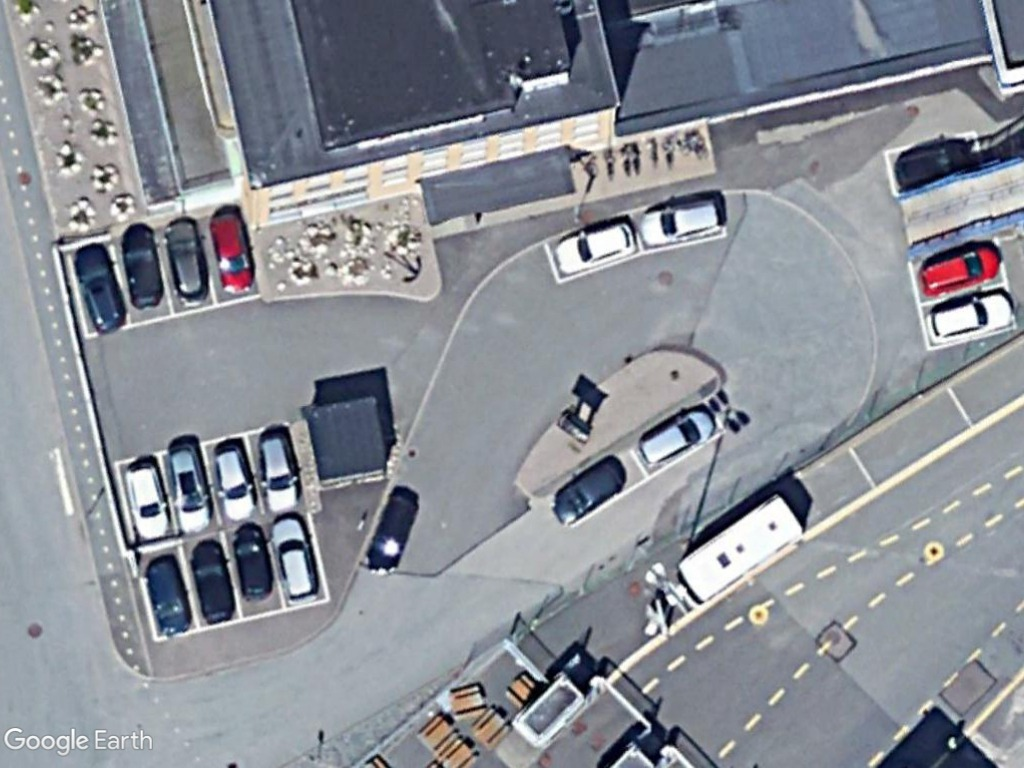car: (544, 452, 635, 535), (544, 216, 645, 285), (907, 234, 1006, 303), (633, 402, 722, 478), (923, 280, 1024, 345), (65, 240, 131, 339), (359, 484, 424, 584), (263, 504, 326, 607), (110, 214, 167, 318), (633, 189, 729, 250), (156, 435, 212, 538), (116, 449, 174, 547), (185, 528, 240, 624), (249, 425, 305, 518), (206, 203, 262, 295), (144, 554, 197, 643), (163, 210, 209, 308), (225, 518, 276, 606), (210, 437, 262, 522)
